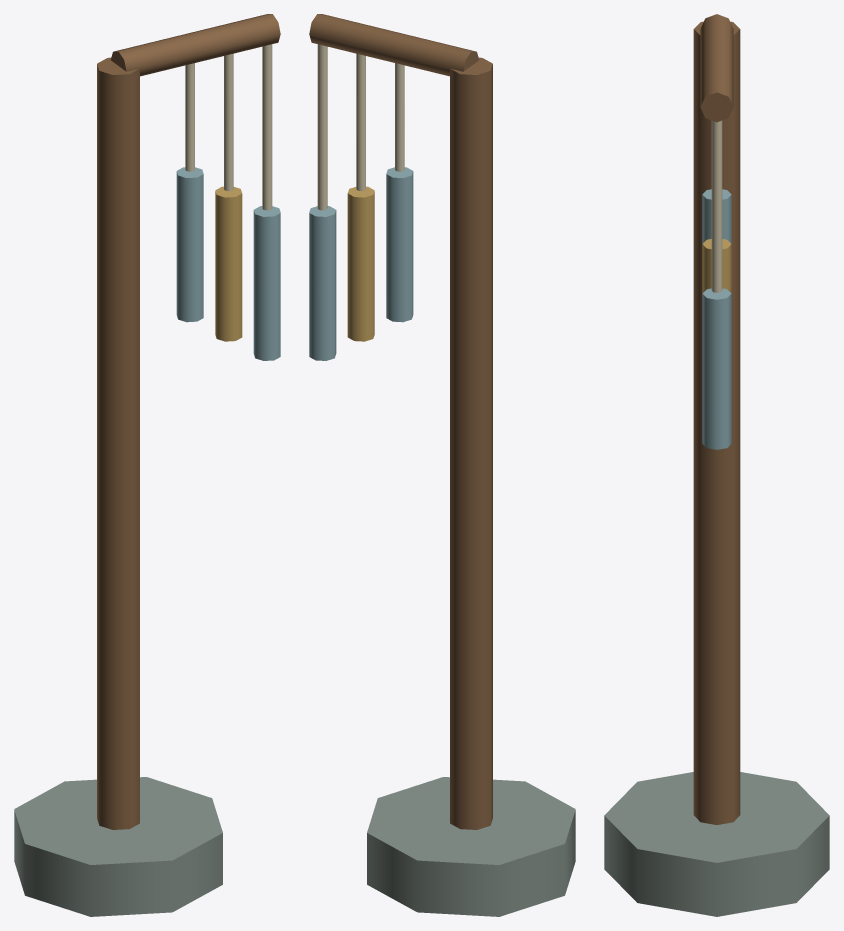
Rendered from decoration-windchime.glb.
3 renders of one model, left to right at view 1: azimuth 30°, elevation 25°; view 2: azimuth 150°, elevation 25°; view 3: azimuth 270°, elevation 25°, orthographic. The views are drawn at different scales.
Visible parts, largest first — view 1: decoration-windchime-visual; view 2: decoration-windchime-visual; view 3: decoration-windchime-visual.
Part boxes in pixels (x1,y1,x2,y2): decoration-windchime-visual: (14,14,280,916); decoration-windchime-visual: (309,14,575,916); decoration-windchime-visual: (604,14,829,916).
Size of the model in its own units: 0.462 by 1.42 by 0.34.
